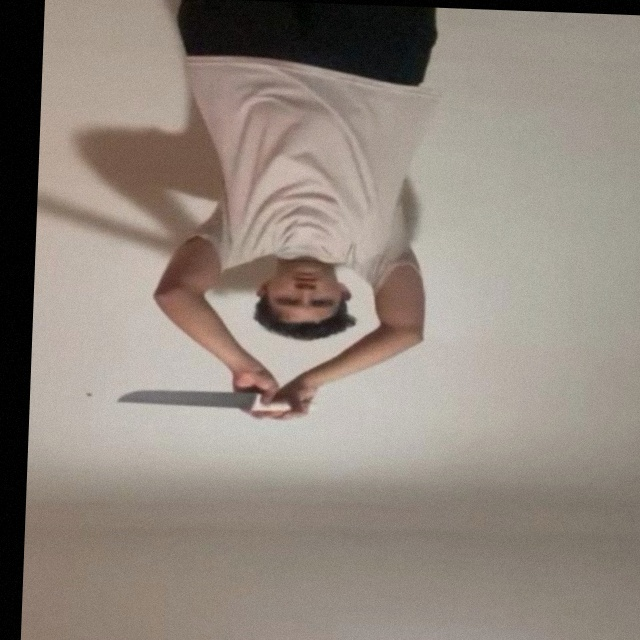Sharp-Object: (111, 383, 247, 414)
